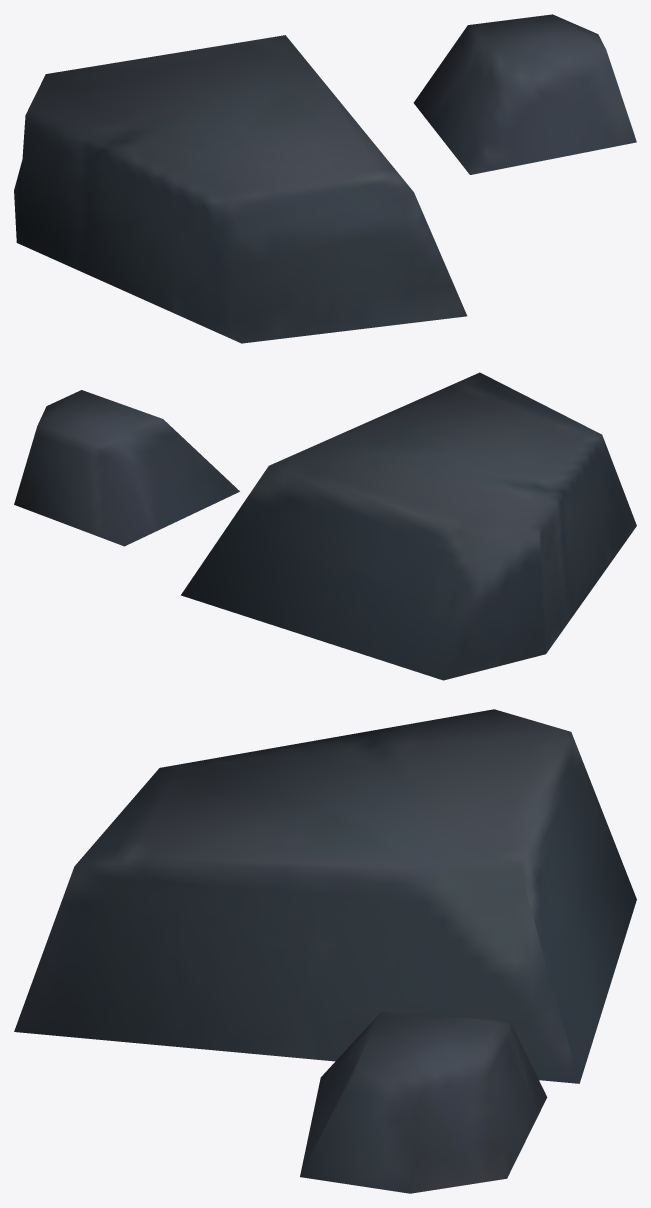
File: Area_15_10.fbx
3 views of the same model, one above another, from view 1: azimuth 30°, elevation 25°; view 2: azimuth 150°, elevation 25°; view 3: azimuth 270°, elevation 25° (orthographic). The views are drawn at different scales.
Visible parts, largest first — view 1: Area_15_10; view 2: Area_15_10; view 3: Area_15_10.
Boxes of the visible parts, <box> form: Area_15_10: <box>14,14,636,343</box>; Area_15_10: <box>14,372,636,680</box>; Area_15_10: <box>14,709,636,1193</box>.
Bounding box in the file's own units: 1924 × 431 × 1417.
